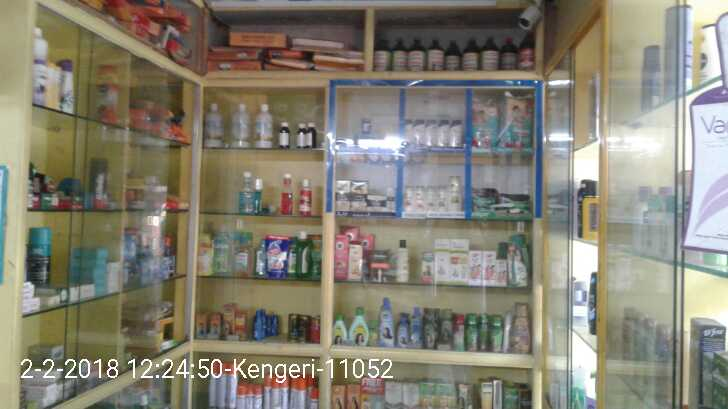beauty: (469, 185, 499, 213), (498, 190, 533, 214), (445, 178, 466, 215), (335, 177, 350, 211), (351, 179, 367, 210), (368, 191, 388, 212), (423, 119, 437, 145), (449, 121, 463, 147), (414, 182, 425, 211), (436, 187, 448, 213), (411, 120, 423, 146), (402, 183, 412, 214), (437, 120, 448, 147), (425, 182, 434, 212), (404, 119, 412, 143)
pharmacy: (504, 92, 540, 147), (471, 94, 501, 147), (356, 111, 377, 141)
